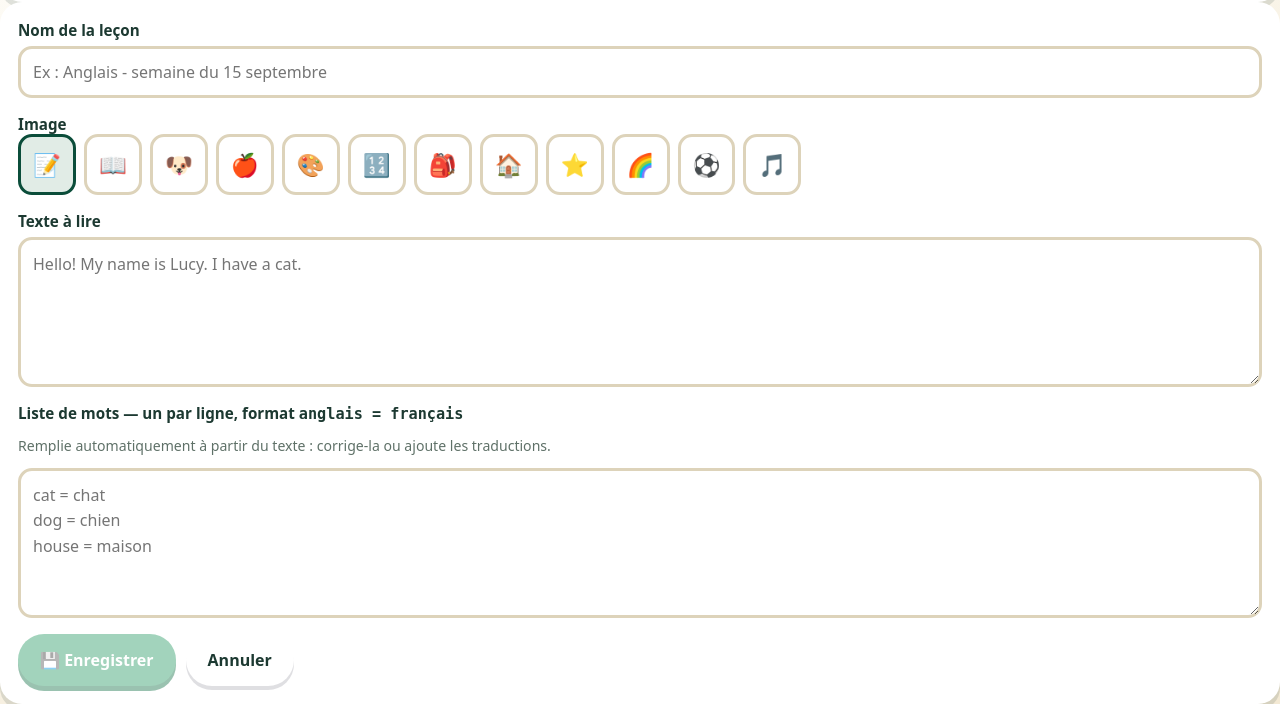
Test: LessonEditorScreen — voix humaine par mot › propose d’écouter et d’effacer un mot déjà enregistré
The image size is (1280, 704).
(page scrolled)
Step 1. Type "cat = chat" into the text box labelled "Liste de mots — un par ligne, format anglais = français" → (640, 543), box [18,468,1262,618]
(page scrolled)
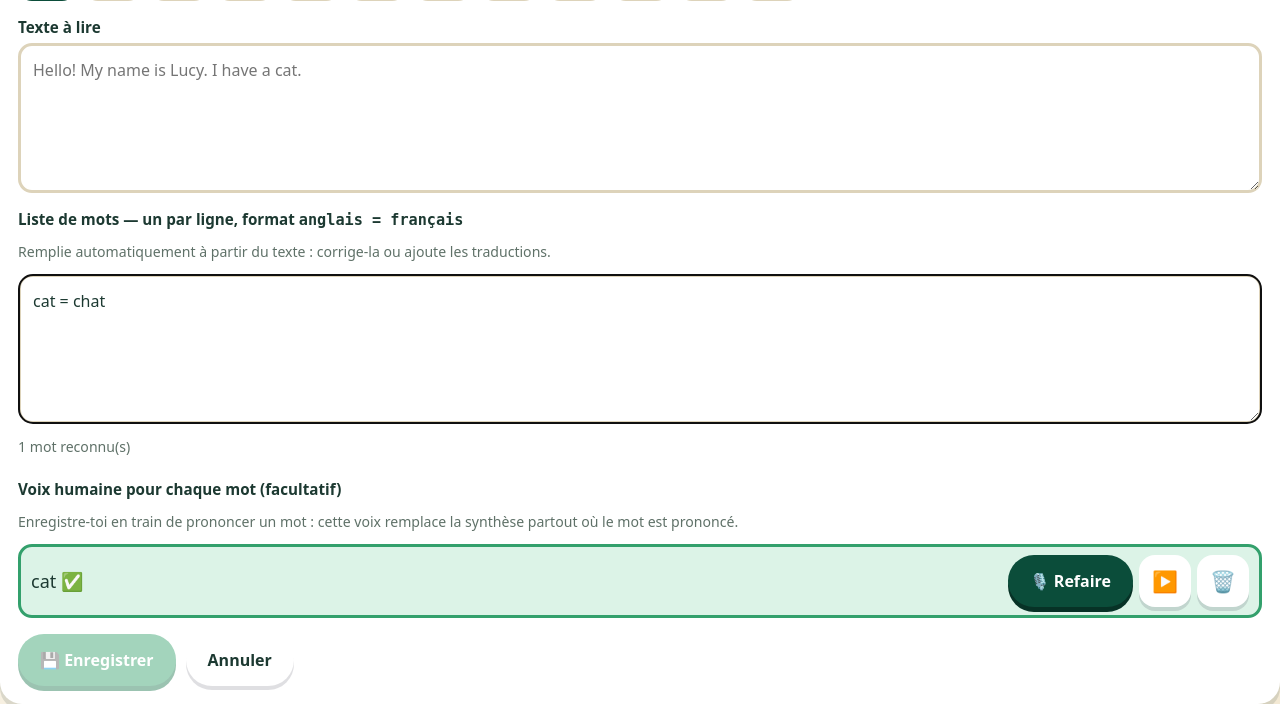
Expected: the button named "Écouter l’enregistrement de cat" is shown, [1139,555,1191,607]
Expected: the button named "Effacer l’enregistrement de cat" is shown, [1197,555,1249,607]
